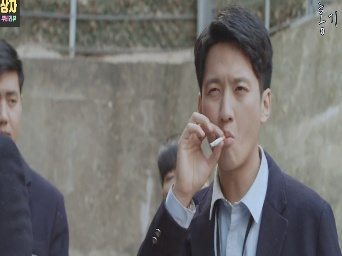smoke: (207, 133, 228, 149)
